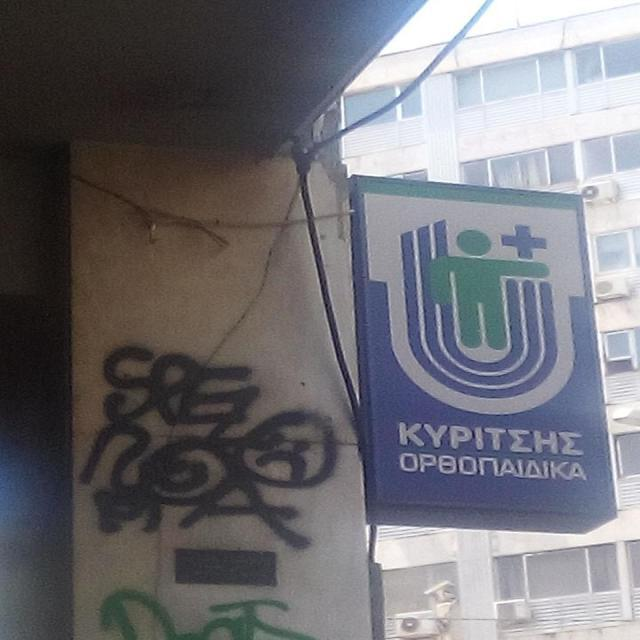nonspitting: (81, 342, 338, 548), (95, 589, 314, 640)
